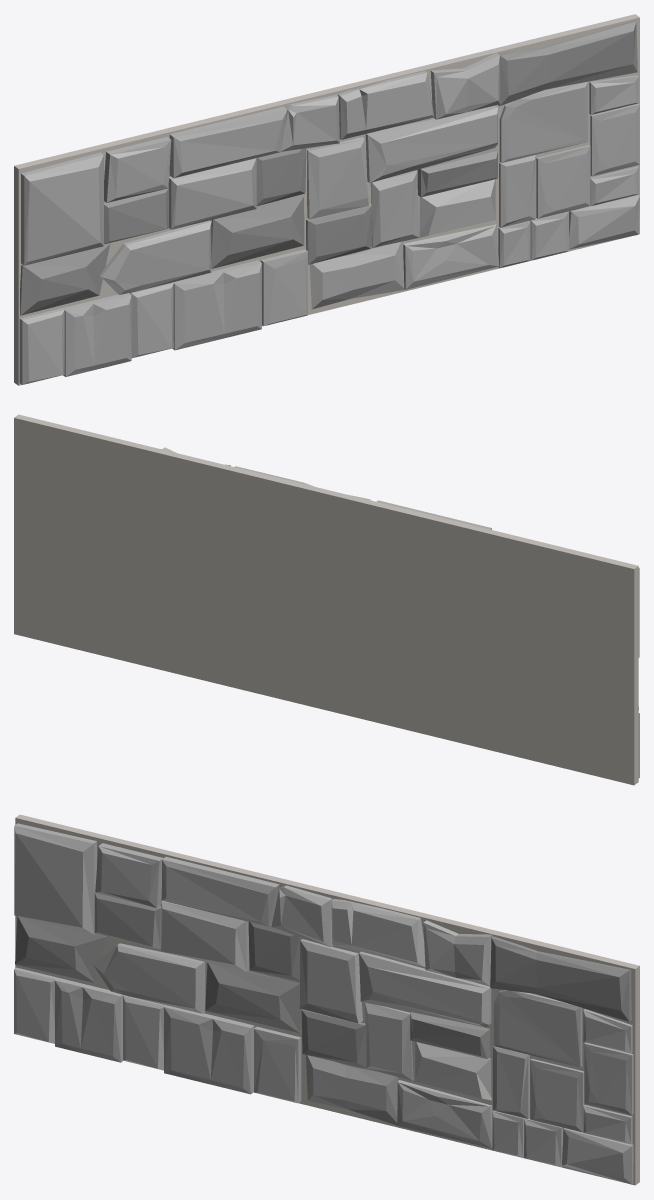
File: _FOUNDATION_03_1.fbx
3 views of the same model, one above another, from view 1: azimuth 30°, elevation 25°; view 2: azimuth 150°, elevation 25°; view 3: azimuth 330°, elevation 25° (orthographic).
Visible parts, largest first — view 1: FOUNDATION_03_1; view 2: FOUNDATION_03_1; view 3: FOUNDATION_03_1.
Part boxes in pixels (<box>): FOUNDATION_03_1: <box>14,14,639,385</box>; FOUNDATION_03_1: <box>14,414,639,785</box>; FOUNDATION_03_1: <box>14,814,639,1185</box>.
Size of the model in its own units: 300 by 100 by 9.77.
